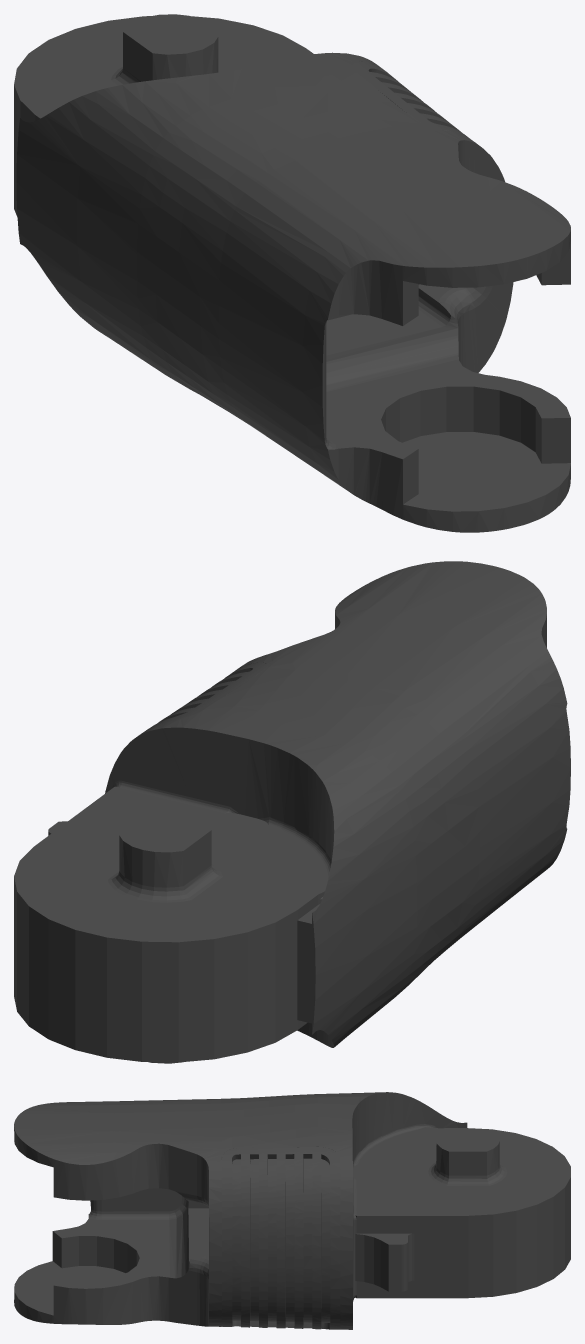
The model's file is rh_index_proximal_vis.obj.
3 views of the same model, one above another, from view 1: azimuth 30°, elevation 25°; view 2: azimuth 150°, elevation 25°; view 3: azimuth 270°, elevation 25° (orthographic). The views are drawn at different scales.
Parts seen in each view (by area): view 1: rh_index_proximal; view 2: rh_index_proximal; view 3: rh_index_proximal.
Boxes of the visible parts, x1=… form: rh_index_proximal: x1=14, y1=14, x2=570, y2=532; rh_index_proximal: x1=14, y1=561, x2=570, y2=1063; rh_index_proximal: x1=14, y1=1092, x2=570, y2=1329.
Size of the model in its own units: 0.0191 by 0.016 by 0.0429.
Materials: 1 (1 with a texture image).
